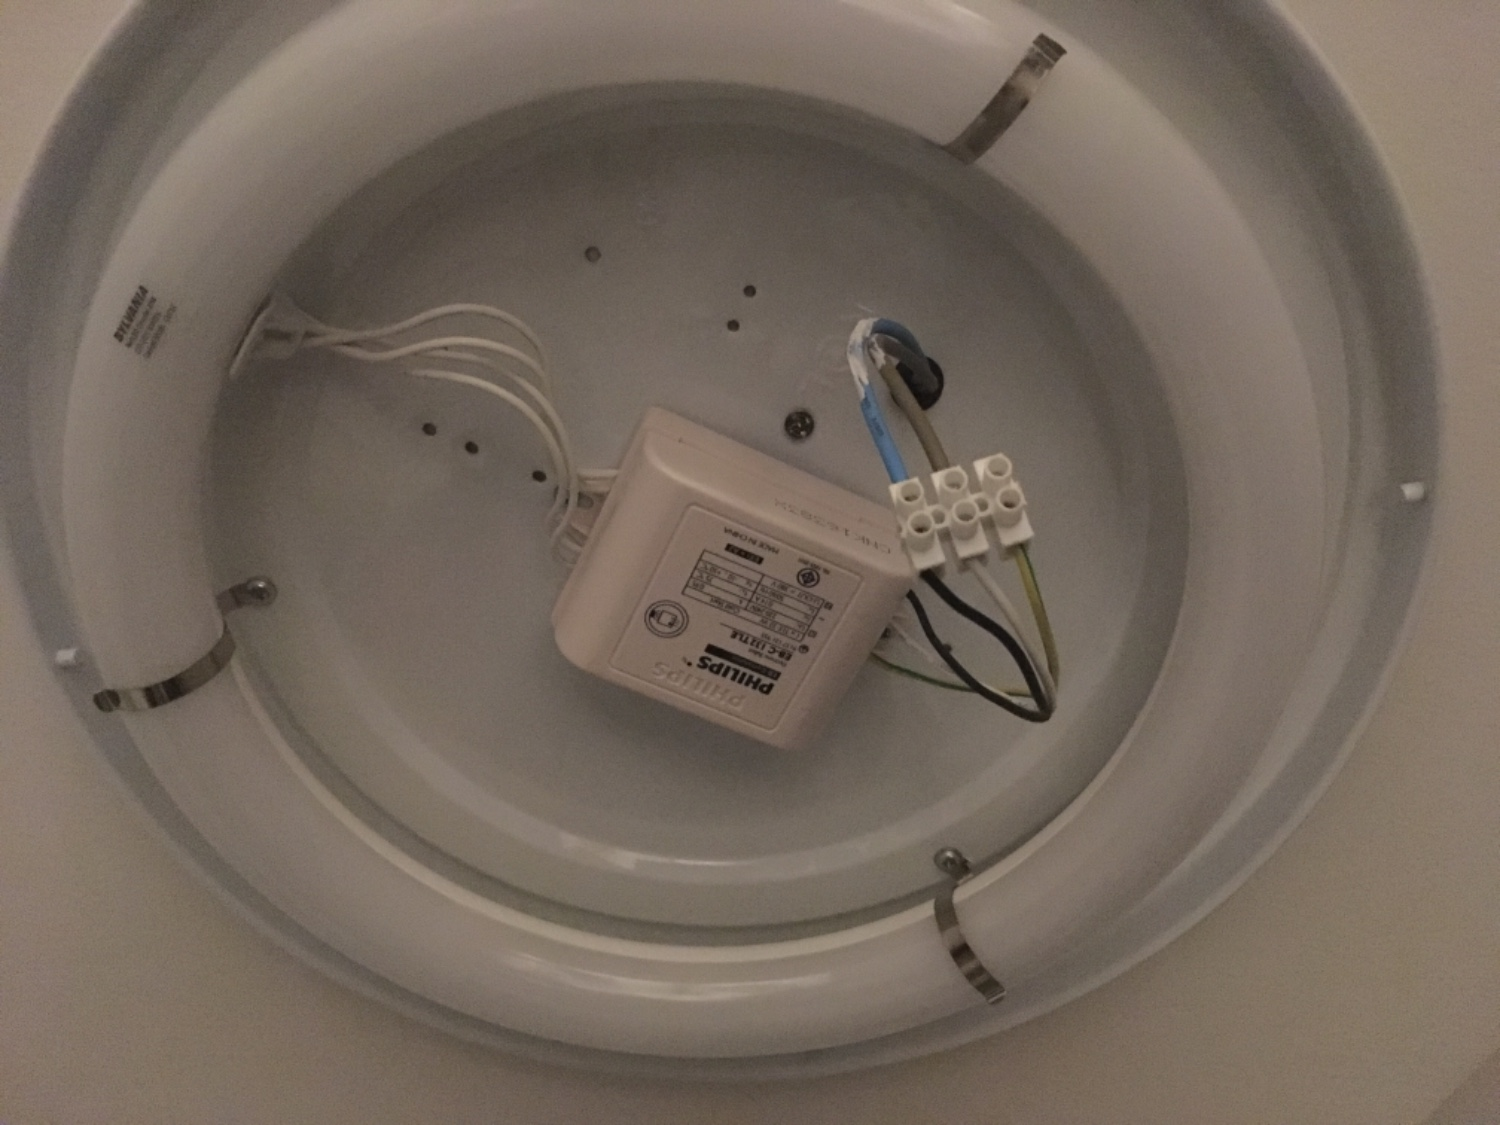Light bulb: (57, 1, 1351, 1077)
